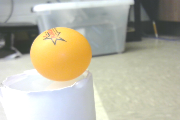PingPongBall: (30, 28, 91, 81)
